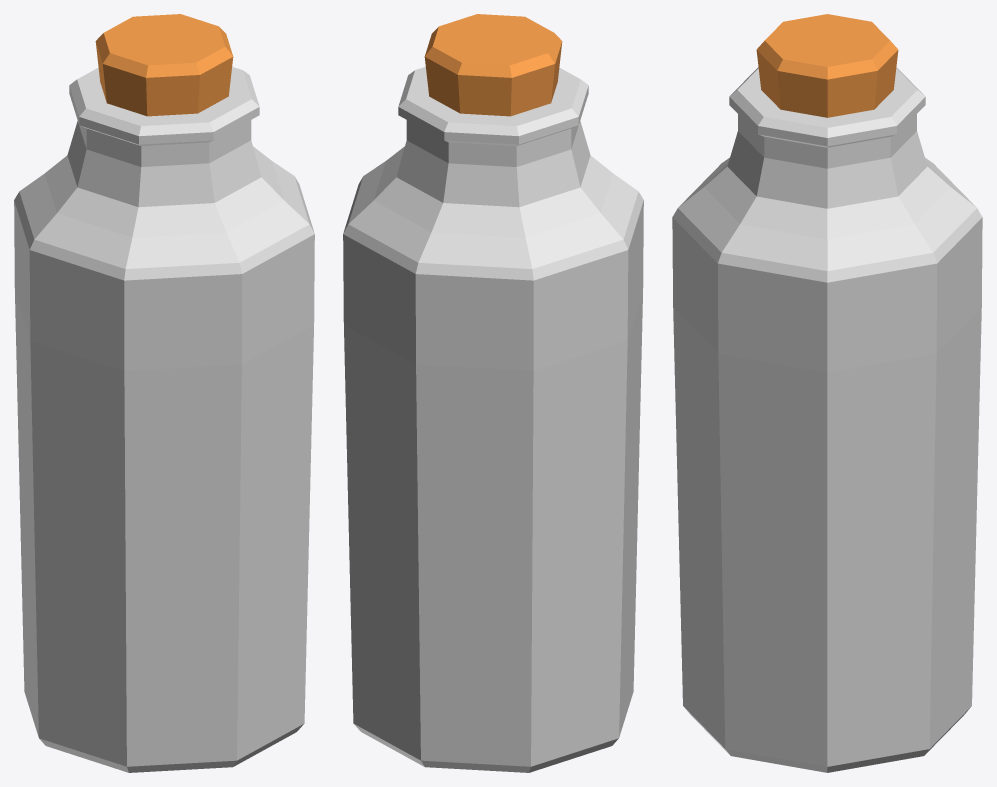
The model's file is Potion1.fbx.
3 views of the same model, side by side, from view 1: azimuth 30°, elevation 25°; view 2: azimuth 150°, elevation 25°; view 3: azimuth 270°, elevation 25° (orthographic).
Visible parts, largest first — view 1: Flask, Cork; view 2: Flask, Cork; view 3: Flask, Cork.
Boxes of the visible parts, x1,y1,x2,y2 form: Flask: (14,67,314,772); Cork: (95,14,233,116); Flask: (343,67,643,772); Cork: (424,14,562,116); Flask: (672,67,982,772); Cork: (756,14,898,117).
Bounding box in the file's own units: 202 × 484 × 202.
